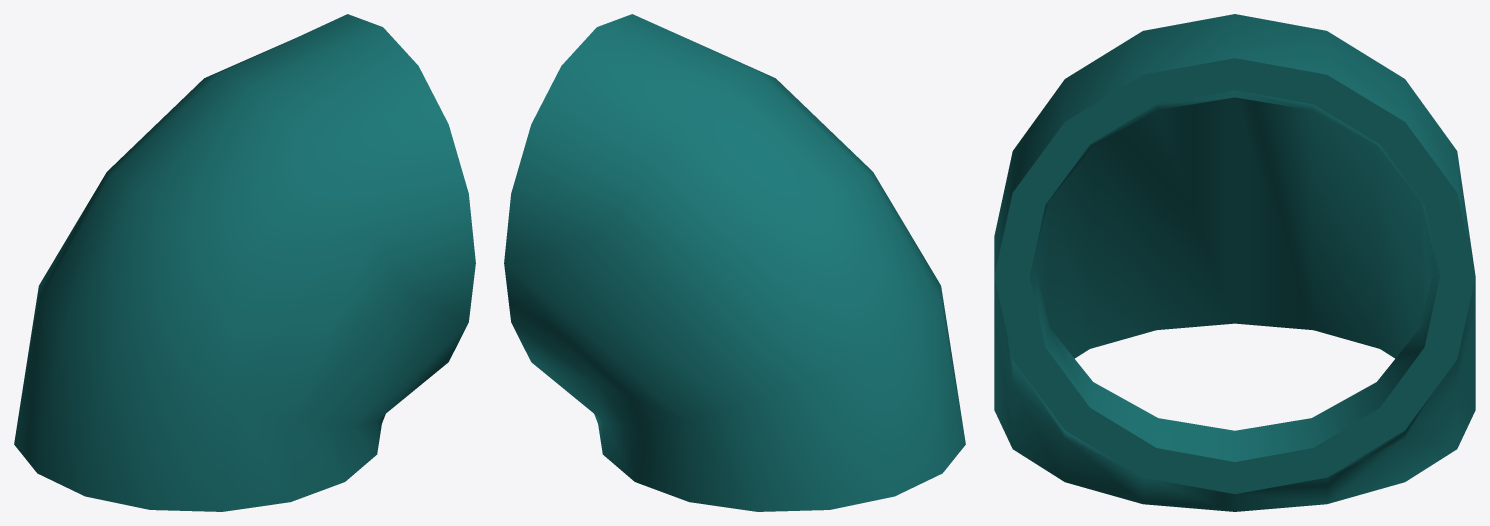
File: cc0-pipe-lod1.glb
3 renders of one model, left to right at view 1: azimuth 30°, elevation 25°; view 2: azimuth 150°, elevation 25°; view 3: azimuth 270°, elevation 25°, orthographic. The views are drawn at different scales.
Parts seen in each view (by area): view 1: part_0; view 2: part_0; view 3: part_0.
Boxes of the visible parts, left/top/right/bottom form: part_0: left=14, top=14, right=475, bottom=511; part_0: left=504, top=14, right=965, bottom=511; part_0: left=994, top=14, right=1475, bottom=511.
Bounding box in the file's own units: 1.87 × 1.87 × 1.74.
